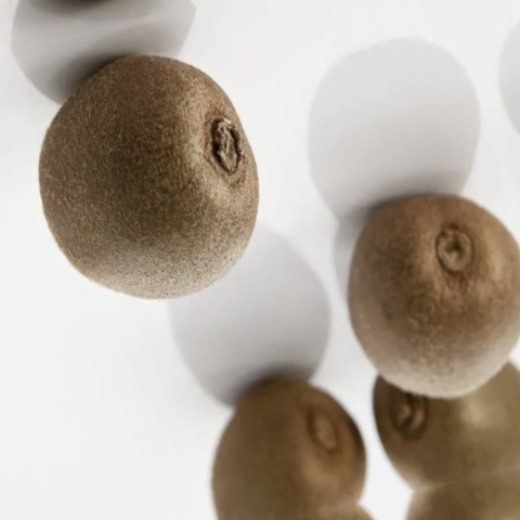kiwi: (0, 15, 305, 345), (297, 156, 520, 424)
